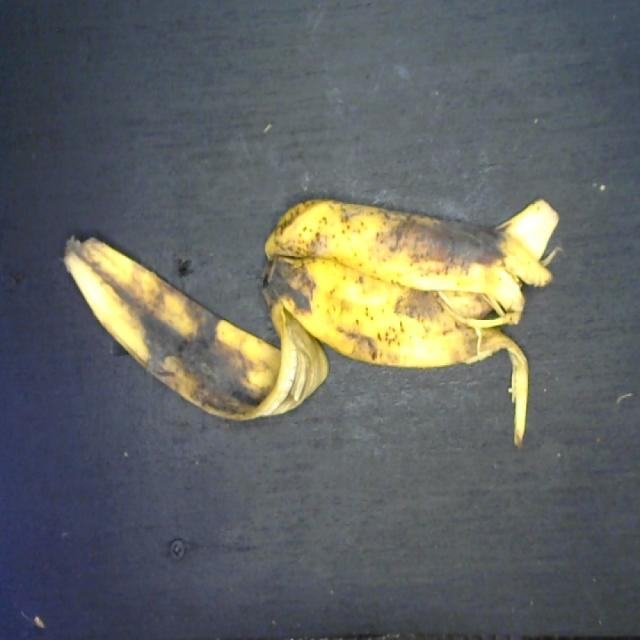biodegradable: (58, 192, 566, 453)
